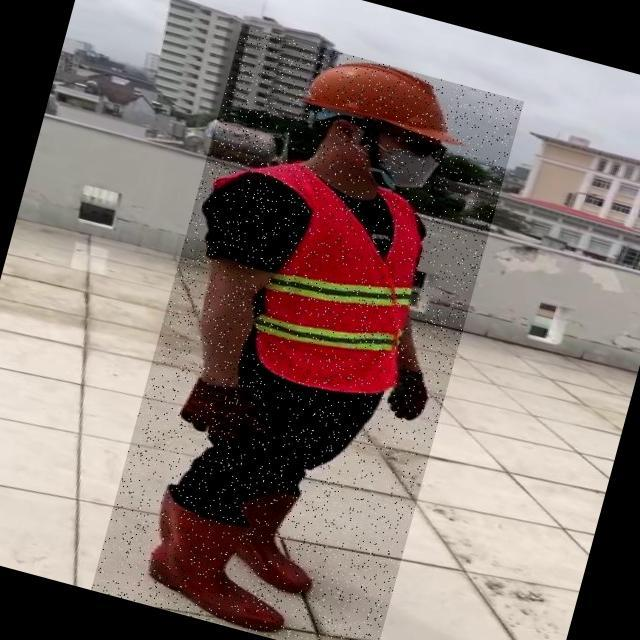Gloves: (176, 375, 271, 448), (385, 370, 434, 425)
Helmet: (291, 45, 485, 156)
Human: (91, 25, 524, 640)
Safety Boot: (133, 486, 308, 634), (225, 480, 333, 595)
Safety Vest: (236, 163, 440, 404)
